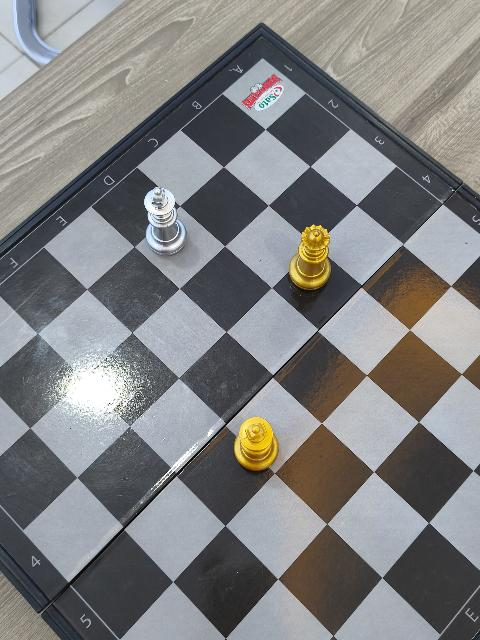black_king: (234, 418, 279, 473)
black_queen: (289, 225, 332, 290)
white_king: (143, 184, 187, 257)
